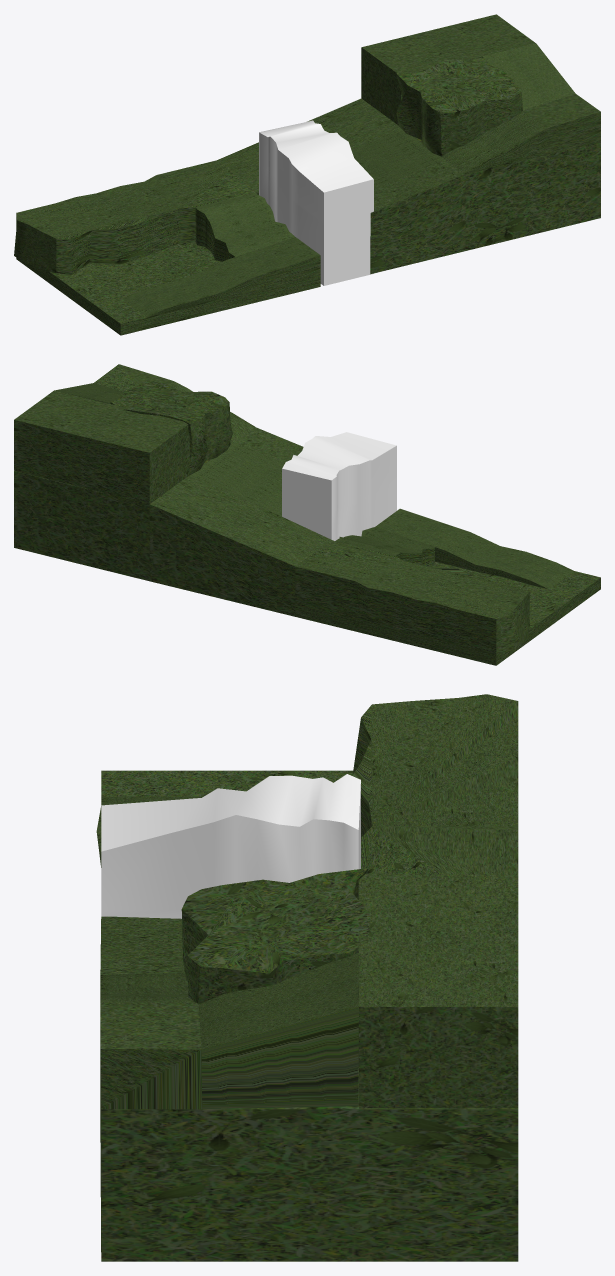
Rendered from Hike_Final_Blocking.fbx.
The picture shows the model from 3 angles, top to bottom: view 1: azimuth 30°, elevation 25°; view 2: azimuth 150°, elevation 25°; view 3: azimuth 270°, elevation 25°; orthographic projection. The views are drawn at different scales.
Visible parts, largest first — view 1: Hike1, PisoHike1, RiscoHike.001, PisoHike2, PisoHike, RiscoHike2, RiscoHike1, Hike, PisoHike3, PisoHike4; view 2: PisoHike1, Hike1, RiscoHike1, PisoHike2, RiscoHike.001, PisoHike, Hike, RiscoHike2, PisoHike3, PisoHike4; view 3: PisoHike2, RiscoHike1, Hike1, RiscoHike.001, PisoHike4, RiscoHike2, PisoHike3, PisoHike1, PisoHike, Hike.
Boxes of the visible parts, bbox=[...] form: Hike1: bbox=[14, 160, 294, 274]; PisoHike1: bbox=[217, 98, 465, 274]; RiscoHike.001: bbox=[259, 120, 373, 285]; PisoHike2: bbox=[372, 106, 600, 250]; PisoHike: bbox=[16, 242, 320, 335]; RiscoHike2: bbox=[396, 58, 522, 156]; RiscoHike1: bbox=[361, 14, 535, 125]; Hike: bbox=[122, 237, 320, 317]; PisoHike3: bbox=[442, 93, 600, 174]; PisoHike4: bbox=[482, 43, 575, 110]; PisoHike1: bbox=[149, 427, 334, 616]; Hike1: bbox=[295, 527, 529, 653]; RiscoHike1: bbox=[14, 390, 189, 503]; PisoHike2: bbox=[14, 443, 232, 581]; RiscoHike.001: bbox=[282, 432, 396, 540]; PisoHike: bbox=[295, 561, 600, 665]; Hike: bbox=[375, 508, 573, 589]; RiscoHike2: bbox=[110, 381, 232, 475]; PisoHike3: bbox=[94, 364, 254, 444]; PisoHike4: bbox=[54, 383, 122, 403]; PisoHike2: bbox=[100, 1023, 518, 1261]; RiscoHike1: bbox=[358, 873, 518, 1108]; Hike1: bbox=[352, 694, 518, 874]; RiscoHike.001: bbox=[101, 774, 360, 918]; PisoHike4: bbox=[199, 953, 358, 1109]; RiscoHike2: bbox=[181, 868, 370, 1027]; PisoHike3: bbox=[100, 973, 202, 1109]; PisoHike1: bbox=[100, 916, 184, 974]; PisoHike: bbox=[101, 770, 353, 797]; Hike: bbox=[96, 796, 201, 867].
Size of the model in its own units: 43781 by 11152 by 16302.
